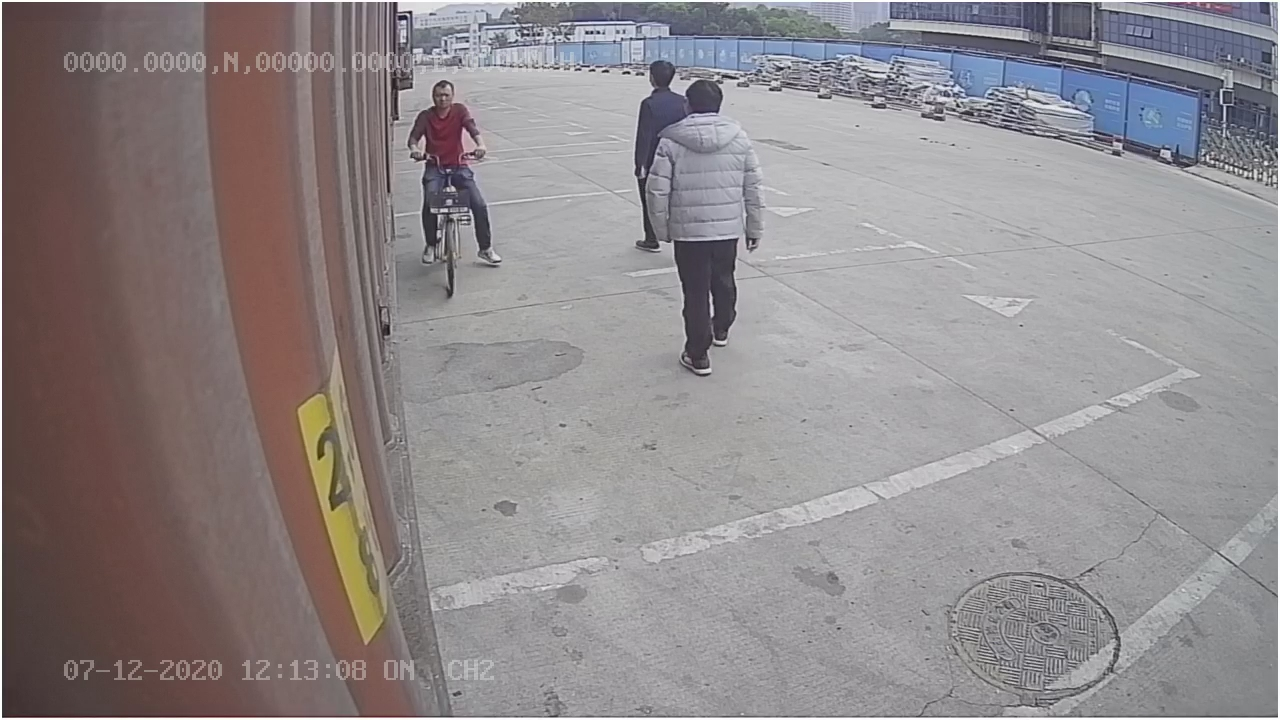person: (643, 79, 768, 378)
